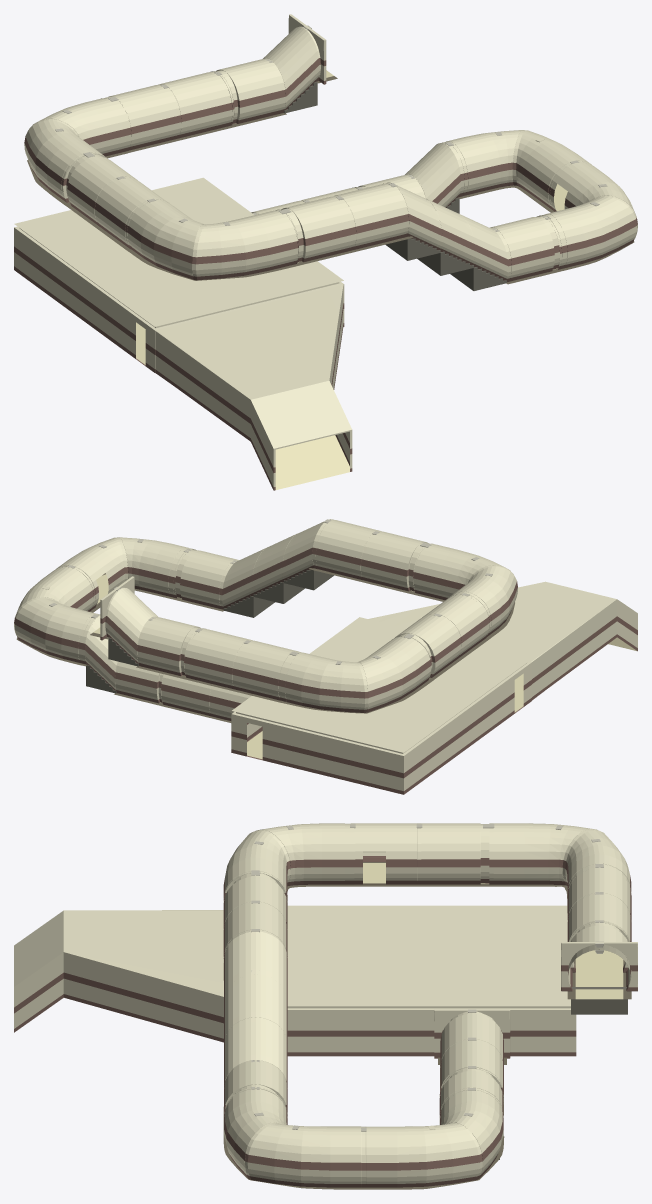
File: Final_subway.fbx
3 views of the same model, one above another, from view 1: azimuth 30°, elevation 25°; view 2: azimuth 150°, elevation 25°; view 3: azimuth 270°, elevation 25° (orthographic). The views are drawn at different scales.
Visible parts, largest first — view 1: polySurface74; view 2: polySurface74; view 3: polySurface74.
Boxes of the visible parts, left/top/right/bottom form: polySurface74: left=14, top=14, right=637, bottom=490; polySurface74: left=14, top=519, right=637, bottom=794; polySurface74: left=14, top=823, right=637, bottom=1189.
Size of the model in its own units: 4786 by 1803 by 4869.
